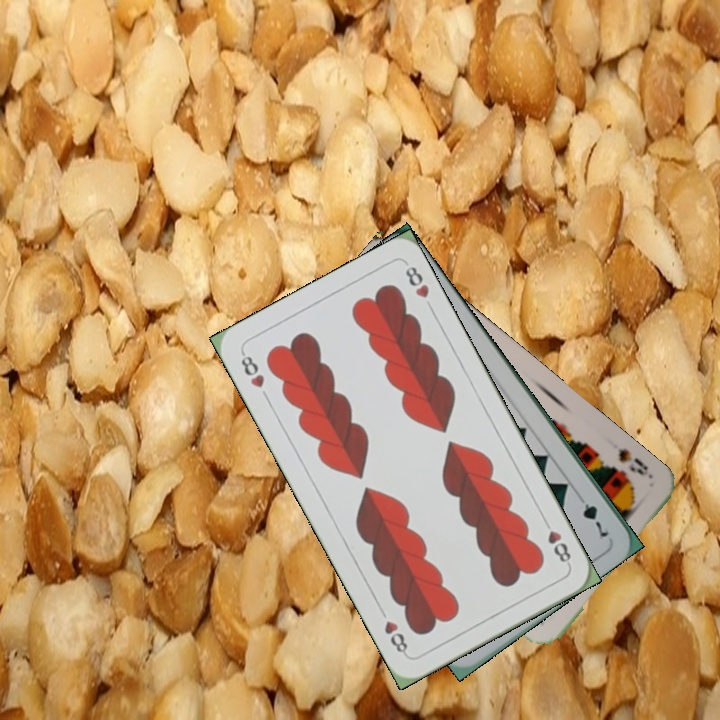G7: (572, 488, 612, 540)
H8: (538, 514, 574, 568), (237, 348, 267, 391)
S8: (613, 444, 656, 482)
